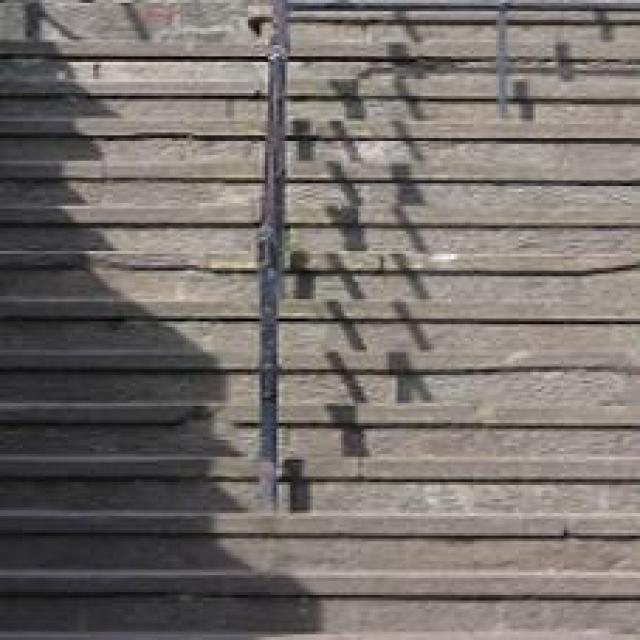stair: (6, 22, 640, 638)
